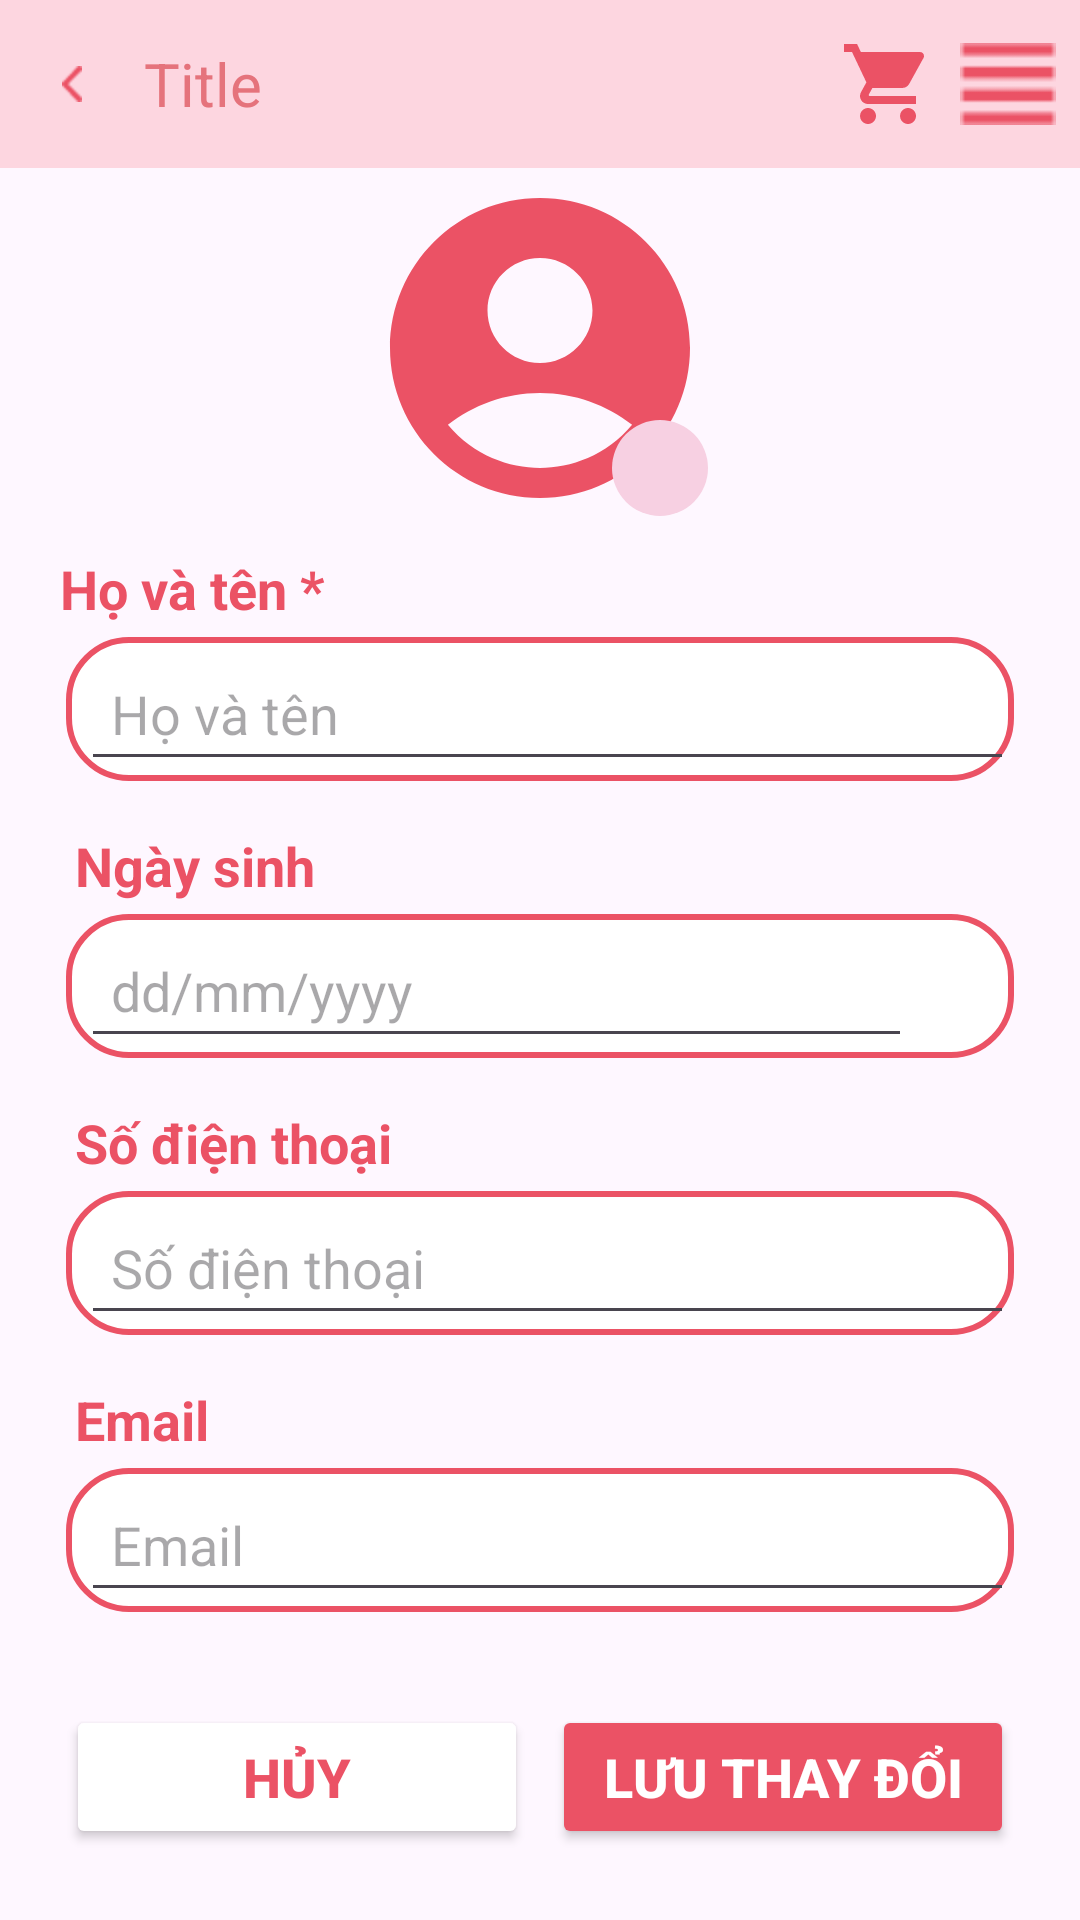

Screen size 1080 x 1920. Icon name, then its center in pixels as (x=x, y=y):
account: (x=549, y=357)
back: (x=72, y=84)
cart: (x=884, y=84)
menu: (x=1008, y=84)
